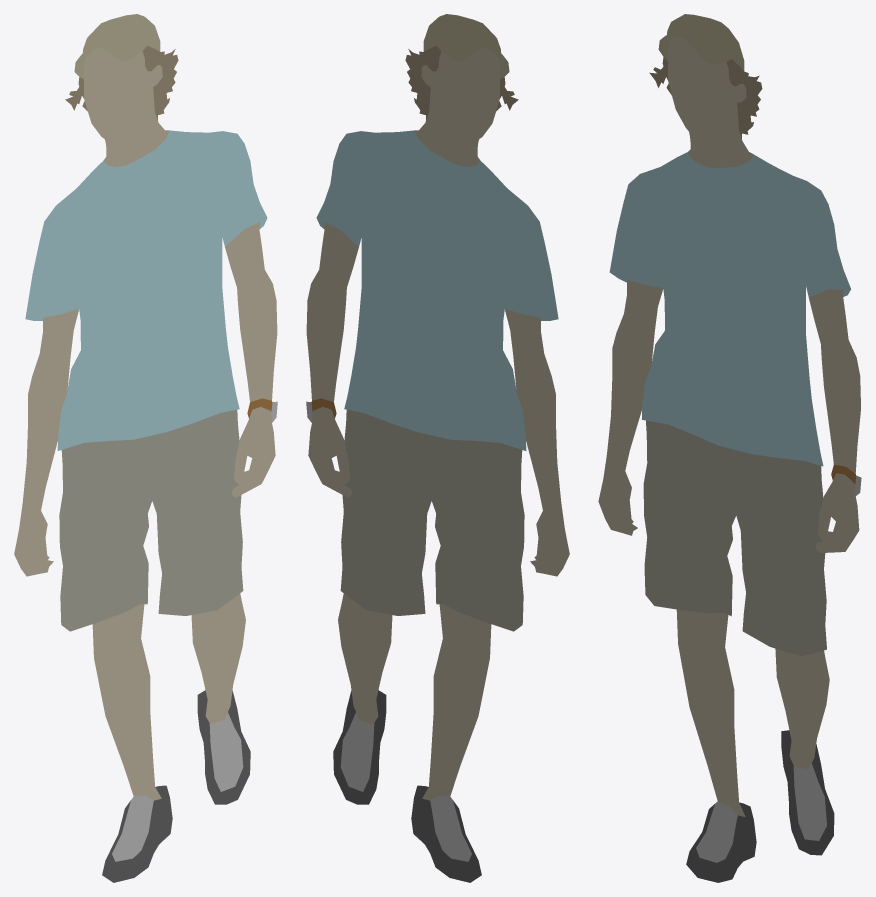
File: person.dae
3 renders of one model, left to right at view 1: azimuth 30°, elevation 25°; view 2: azimuth 150°, elevation 25°; view 3: azimuth 330°, elevation 25°, orthographic.
Parts seen in each view (by area): view 1: SketchUp_004, SketchUp_010, SketchUp_014, SketchUp_005, SketchUp_017, SketchUp_006, SketchUp_012, SketchUp_002, SketchUp_009, SketchUp_016, SketchUp_011, SketchUp_013 (+2 smaller); view 2: SketchUp_004, SketchUp_010, SketchUp_014, SketchUp_005, SketchUp_017, SketchUp_006, SketchUp_012, SketchUp_002, SketchUp_009, SketchUp_016, SketchUp_011, SketchUp_013 (+2 smaller); view 3: SketchUp_004, SketchUp_010, SketchUp_014, SketchUp_005, SketchUp_017, SketchUp_006, SketchUp_012, SketchUp_002, SketchUp_009, SketchUp_016, SketchUp_011, SketchUp_013 (+2 smaller).
Boxes of the visible parts, left/top/right/bottom form: SketchUp_004: left=25, top=130, right=267, bottom=450; SketchUp_010: left=59, top=409, right=243, bottom=631; SketchUp_014: left=92, top=604, right=161, bottom=800; SketchUp_005: left=14, top=309, right=78, bottom=576; SketchUp_017: left=84, top=47, right=169, bottom=166; SketchUp_006: left=225, top=222, right=277, bottom=402; SketchUp_012: left=191, top=593, right=245, bottom=723; SketchUp_002: left=74, top=14, right=160, bottom=78; SketchUp_009: left=232, top=407, right=275, bottom=497; SketchUp_016: left=102, top=785, right=172, bottom=882; SketchUp_011: left=197, top=690, right=250, bottom=804; SketchUp_013: left=209, top=712, right=243, bottom=791; SketchUp_004: left=316, top=130, right=558, bottom=450; SketchUp_010: left=340, top=409, right=524, bottom=631; SketchUp_014: left=422, top=604, right=491, bottom=800; SketchUp_005: left=505, top=309, right=569, bottom=576; SketchUp_017: left=414, top=47, right=499, bottom=166; SketchUp_006: left=306, top=222, right=358, bottom=402; SketchUp_012: left=338, top=593, right=392, bottom=723; SketchUp_002: left=423, top=14, right=509, bottom=78; SketchUp_009: left=308, top=407, right=351, bottom=497; SketchUp_016: left=411, top=785, right=481, bottom=882; SketchUp_011: left=333, top=690, right=386, bottom=804; SketchUp_013: left=340, top=712, right=374, bottom=791; SketchUp_004: left=609, top=152, right=850, bottom=466; SketchUp_010: left=643, top=420, right=826, bottom=656; SketchUp_014: left=676, top=609, right=745, bottom=817; SketchUp_005: left=598, top=279, right=662, bottom=535; SketchUp_017: left=668, top=36, right=753, bottom=168; SketchUp_006: left=809, top=289, right=860, bottom=473; SketchUp_012: left=775, top=648, right=829, bottom=769; SketchUp_002: left=658, top=14, right=744, bottom=70; SketchUp_009: left=815, top=473, right=859, bottom=552; SketchUp_016: left=686, top=802, right=756, bottom=882; SketchUp_011: left=781, top=730, right=834, bottom=855; SketchUp_013: left=793, top=763, right=826, bottom=840.
Size of the model in its own units: 0.5679 by 0 by 1.78.
